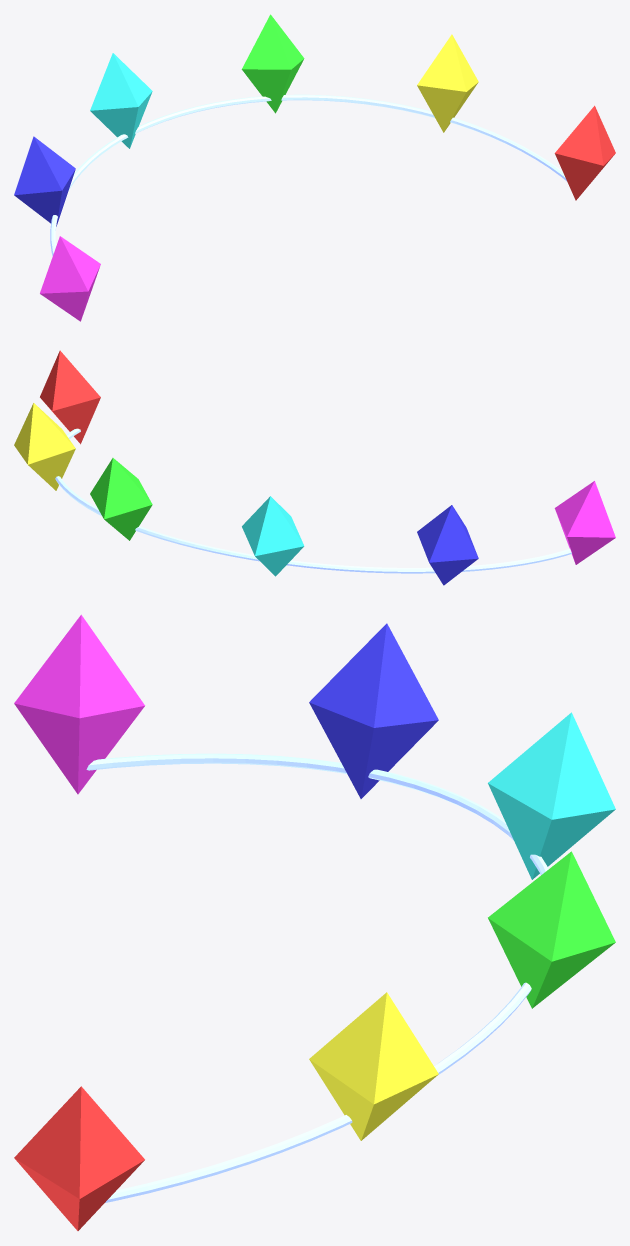
File: prismatic-og-v1-accessories.fbx
The picture shows the model from 3 angles, top to bottom: view 1: azimuth 30°, elevation 25°; view 2: azimuth 150°, elevation 25°; view 3: azimuth 270°, elevation 25°; orthographic projection. The views are drawn at different scales.
Visible parts, largest first — view 1: PrismaticOrbitArc, OrbitPrism_3, OrbitPrism_2, OrbitPrism_4, OrbitPrism_1, OrbitPrism_5, OrbitPrism_0; view 2: OrbitPrism_5, OrbitPrism_2, OrbitPrism_1, OrbitPrism_0, OrbitPrism_3, OrbitPrism_4, PrismaticOrbitArc; view 3: OrbitPrism_5, OrbitPrism_4, OrbitPrism_3, OrbitPrism_2, OrbitPrism_1, OrbitPrism_0, PrismaticOrbitArc.
Part boxes in pixels (x1=…): PrismaticOrbitArc: x1=50, y1=94, x2=566, y2=255; OrbitPrism_3: x1=90, y1=53, x2=152, y2=148; OrbitPrism_2: x1=241, y1=14, x2=304, y2=113; OrbitPrism_4: x1=14, y1=136, x2=75, y2=226; OrbitPrism_1: x1=417, y1=34, x2=478, y2=132; OrbitPrism_5: x1=40, y1=236, x2=100, y2=321; OrbitPrism_0: x1=554, y1=105, x2=615, y2=200; OrbitPrism_5: x1=554, y1=481, x2=615, y2=564; OrbitPrism_2: x1=90, y1=458, x2=152, y2=540; OrbitPrism_1: x1=14, y1=403, x2=75, y2=490; OrbitPrism_0: x1=40, y1=350, x2=100, y2=444; OrbitPrism_3: x1=242, y1=496, x2=304, y2=576; OrbitPrism_4: x1=417, y1=505, x2=478, y2=585; PrismaticOrbitArc: x1=55, y1=428, x2=571, y2=573; OrbitPrism_5: x1=14, y1=614, x2=144, y2=794; OrbitPrism_4: x1=309, y1=623, x2=438, y2=798; OrbitPrism_3: x1=488, y1=712, x2=615, y2=879; OrbitPrism_2: x1=488, y1=851, x2=615, y2=1008; OrbitPrism_1: x1=309, y1=992, x2=438, y2=1140; OrbitPrism_0: x1=14, y1=1086, x2=144, y2=1230; PrismaticOrbitArc: x1=86, y1=753, x2=548, y2=1202.
Bounding box in the file's own units: 2088 × 443 × 1045.
